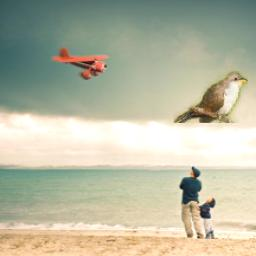Cuckoo: (174, 71, 249, 123)
